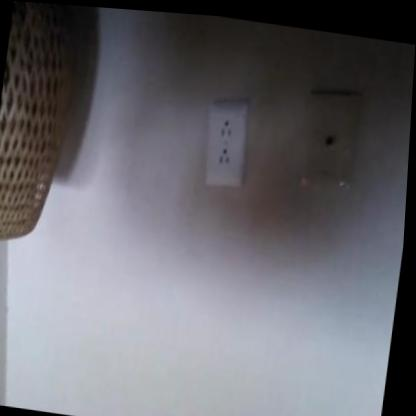OUTLET: (202, 98, 253, 190)
